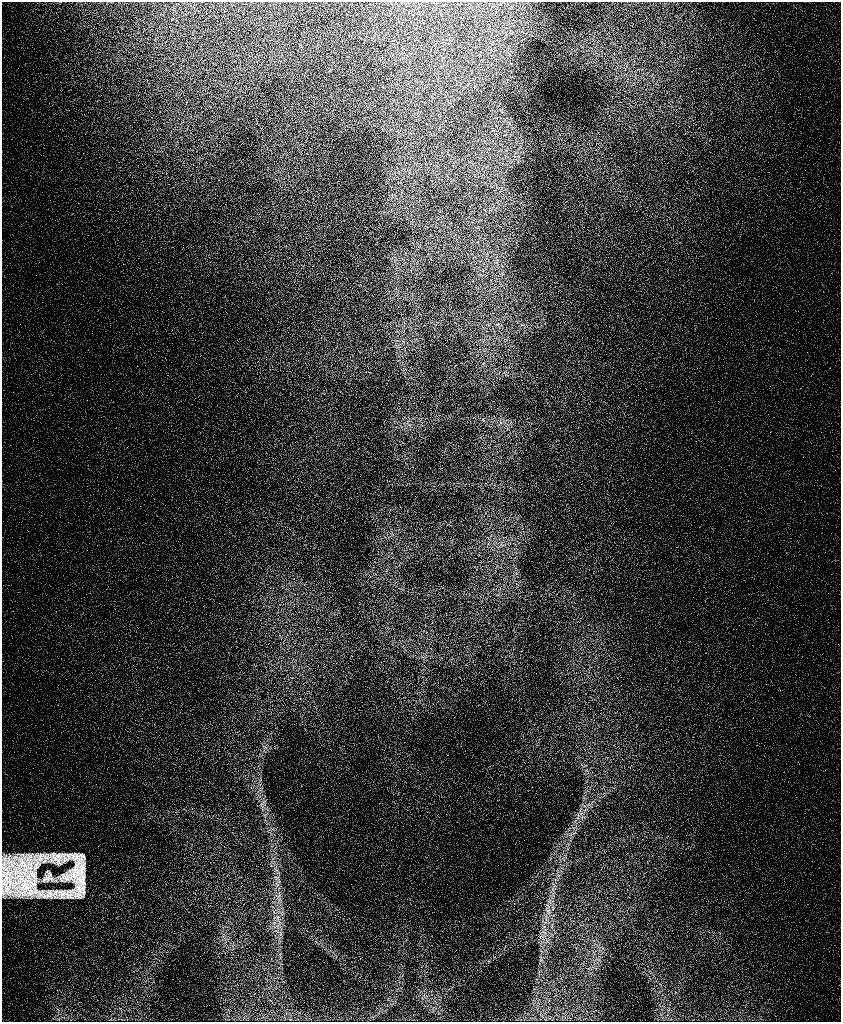lumbar scoliosis: (358, 93, 547, 625)
